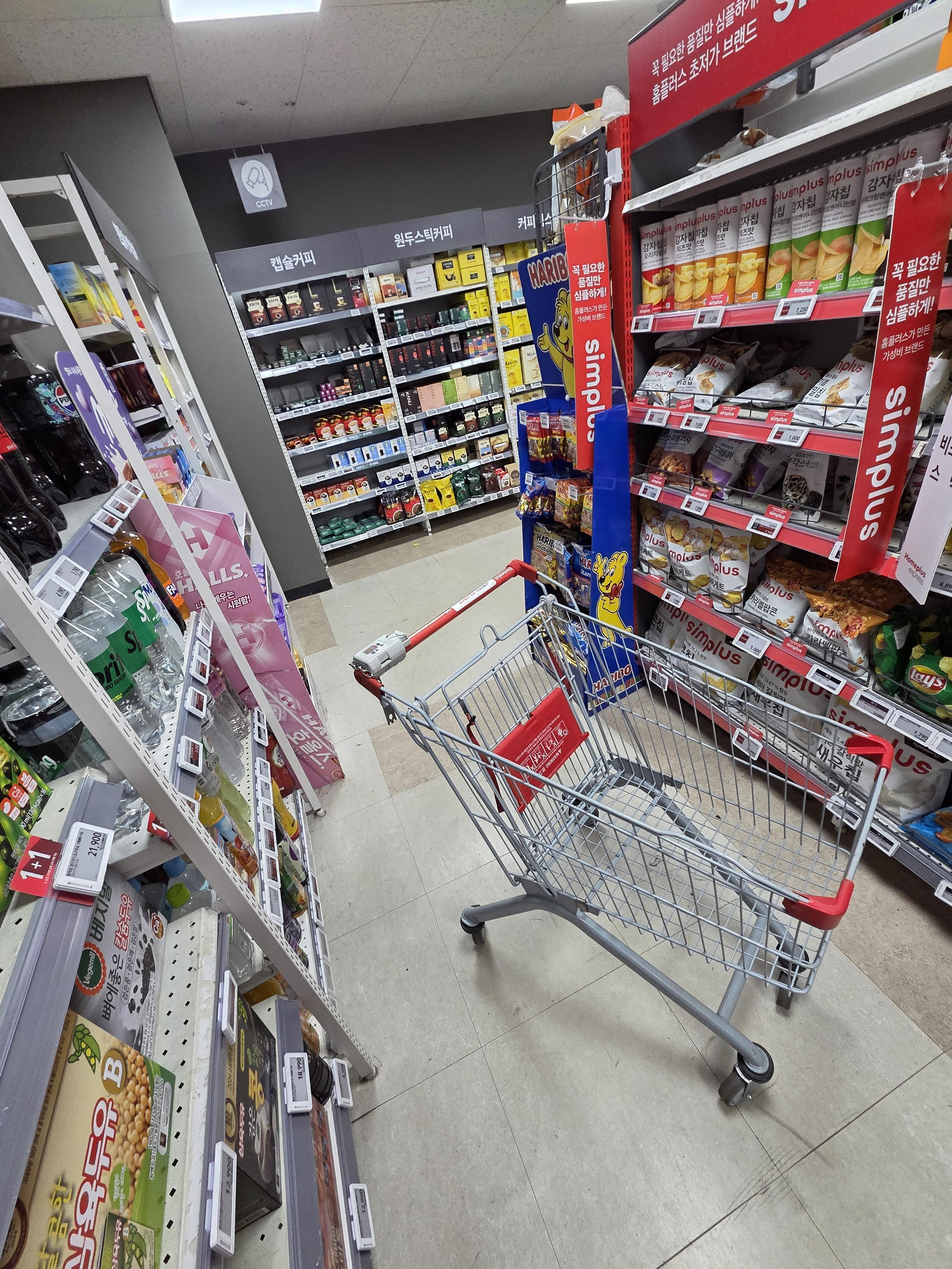empty_cart: (352, 562, 890, 1099)
